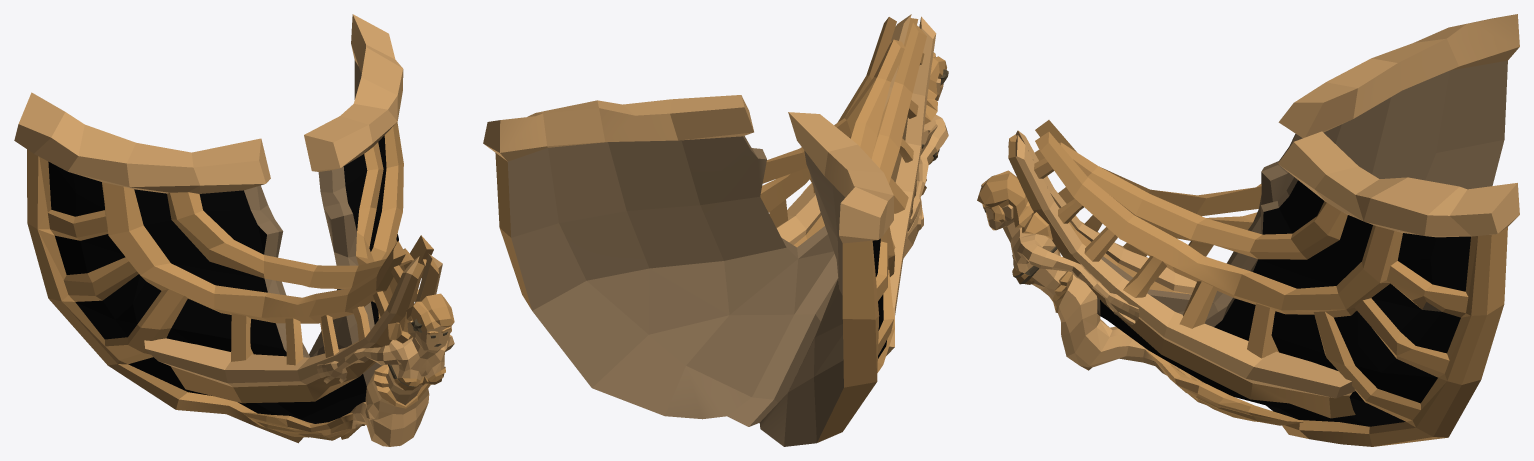
The model's file is SM_Veh_Ship_S_Figurehead_01.fbx.
3 renders of one model, left to right at view 1: azimuth 30°, elevation 25°; view 2: azimuth 150°, elevation 25°; view 3: azimuth 270°, elevation 25°, orthographic. The views are drawn at different scales.
Parts seen in each view (by area): view 1: SM_Veh_Ship_S_Figurehead_01; view 2: SM_Veh_Ship_S_Figurehead_01; view 3: SM_Veh_Ship_S_Figurehead_01.
Boxes of the visible parts, bbox=[...] form: SM_Veh_Ship_S_Figurehead_01: bbox=[14, 14, 454, 446]; SM_Veh_Ship_S_Figurehead_01: bbox=[483, 14, 948, 446]; SM_Veh_Ship_S_Figurehead_01: bbox=[977, 14, 1519, 446].
Bounding box in the file's own units: 412 × 330 × 482.
